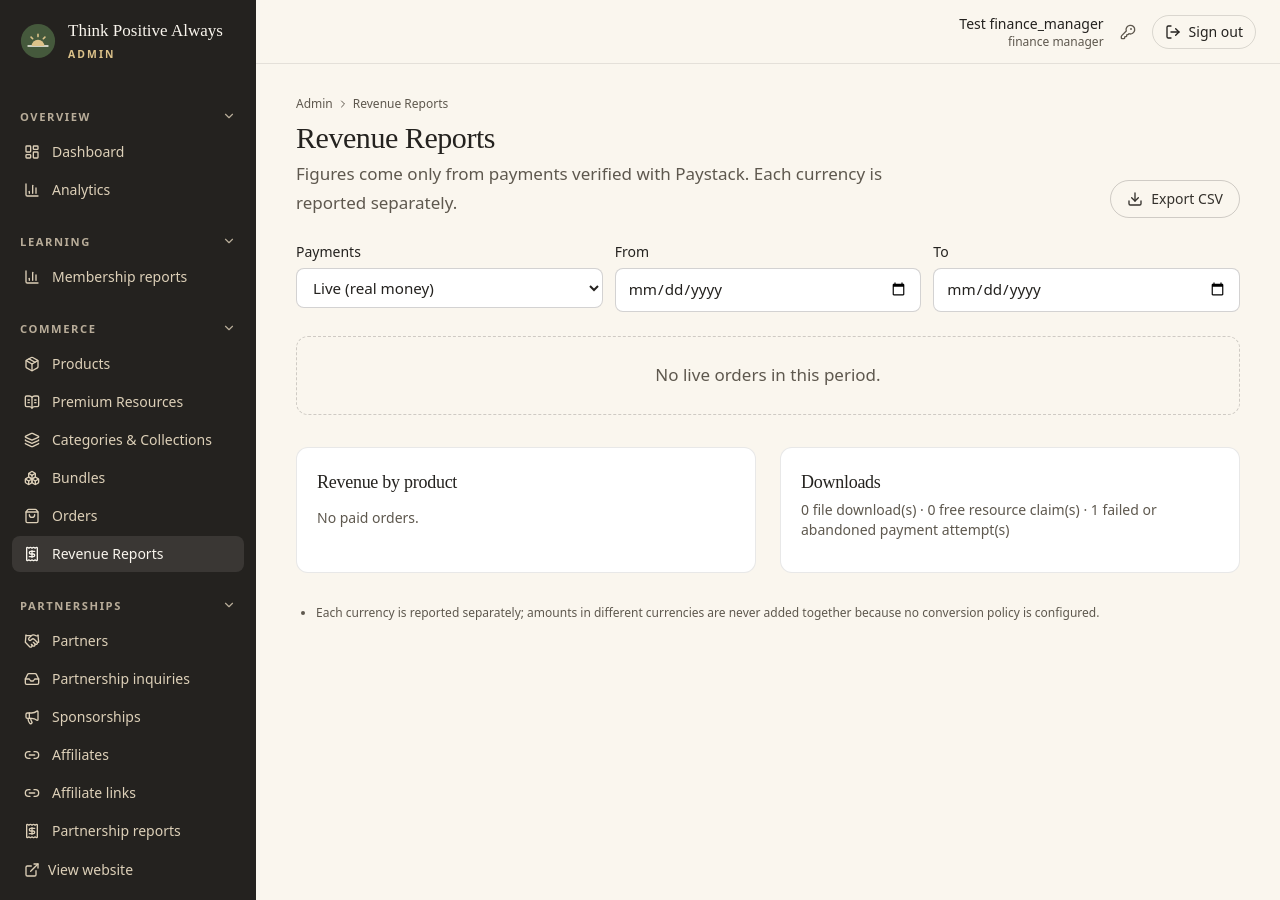
it: payments and reports › reports each currency separately and labels test figures
Expected: the text "No live orders in this period." is shown, left=296, top=336, right=1240, bottom=414
Select "Test mode" in the dropdown labelled "Payments" at (449, 288), box left=296, top=268, right=603, bottom=308
(page scrolled)
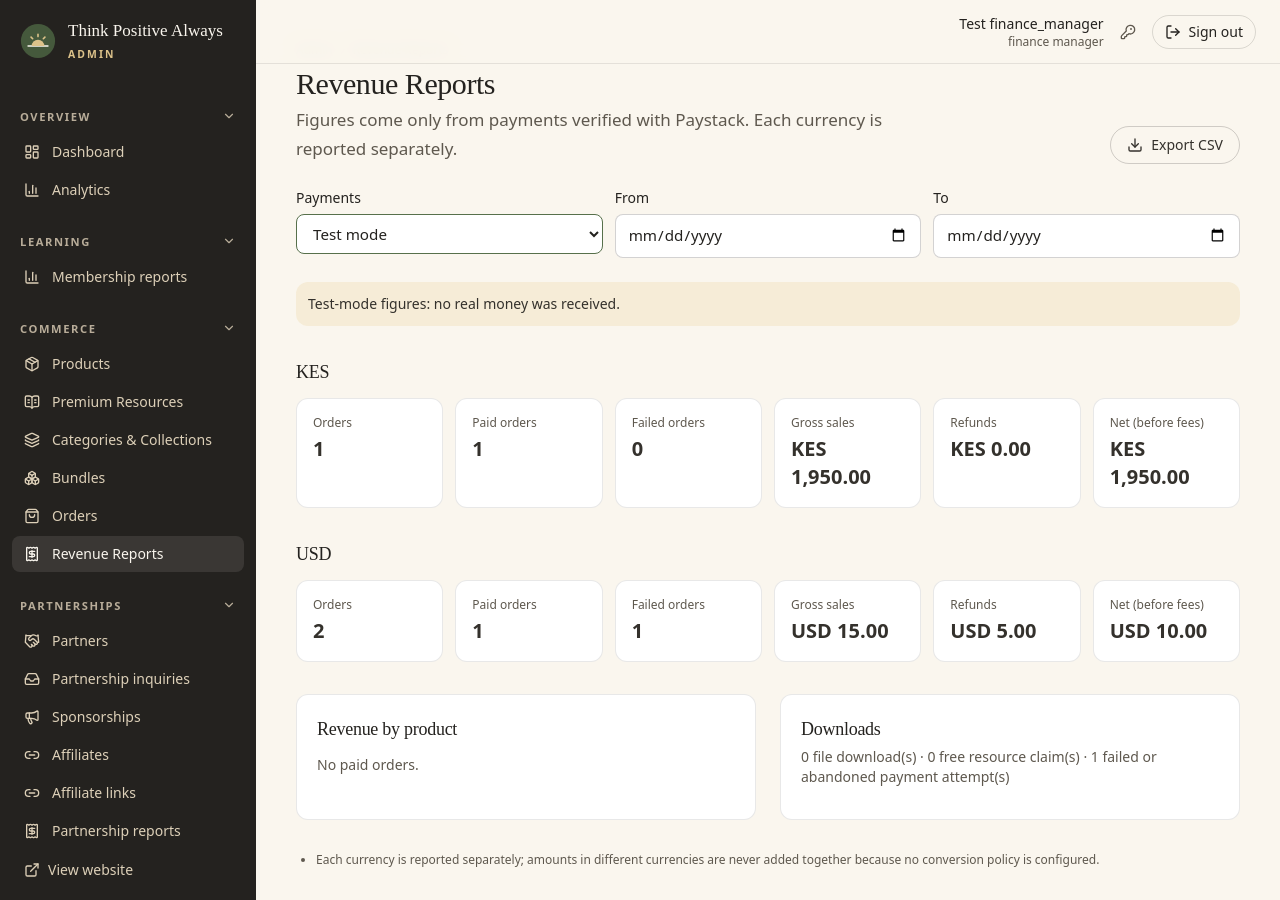
Expected: the heading "USD" is shown, left=296, top=544, right=331, bottom=564
Expected: the heading "KES" is shown, left=296, top=362, right=329, bottom=382
Expected: the text "Test-mode figures: no real money was received." is shown, left=296, top=282, right=1240, bottom=326
